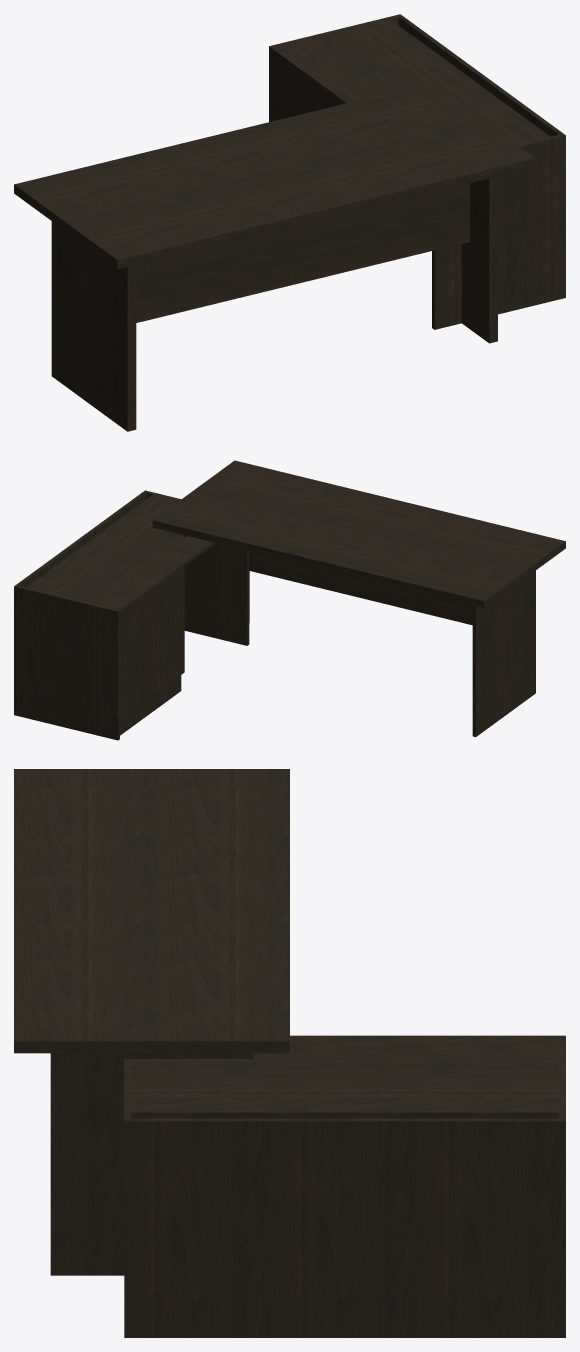
Rendered from Escritorioejecutivo03.glb.
The picture shows the model from 3 angles, top to bottom: view 1: azimuth 30°, elevation 25°; view 2: azimuth 150°, elevation 25°; view 3: azimuth 270°, elevation 25°; orthographic projection. The views are drawn at different scales.
Visible parts, largest first — view 1: root; view 2: root; view 3: root.
Boxes of the visible parts, x1,y1,x2,y2 form: root: [14, 14, 565, 431]; root: [14, 460, 565, 740]; root: [14, 769, 565, 1337].
Bounding box in the file's own units: 2.05 × 0.75 × 1.5.
2 materials, 1 textured.
